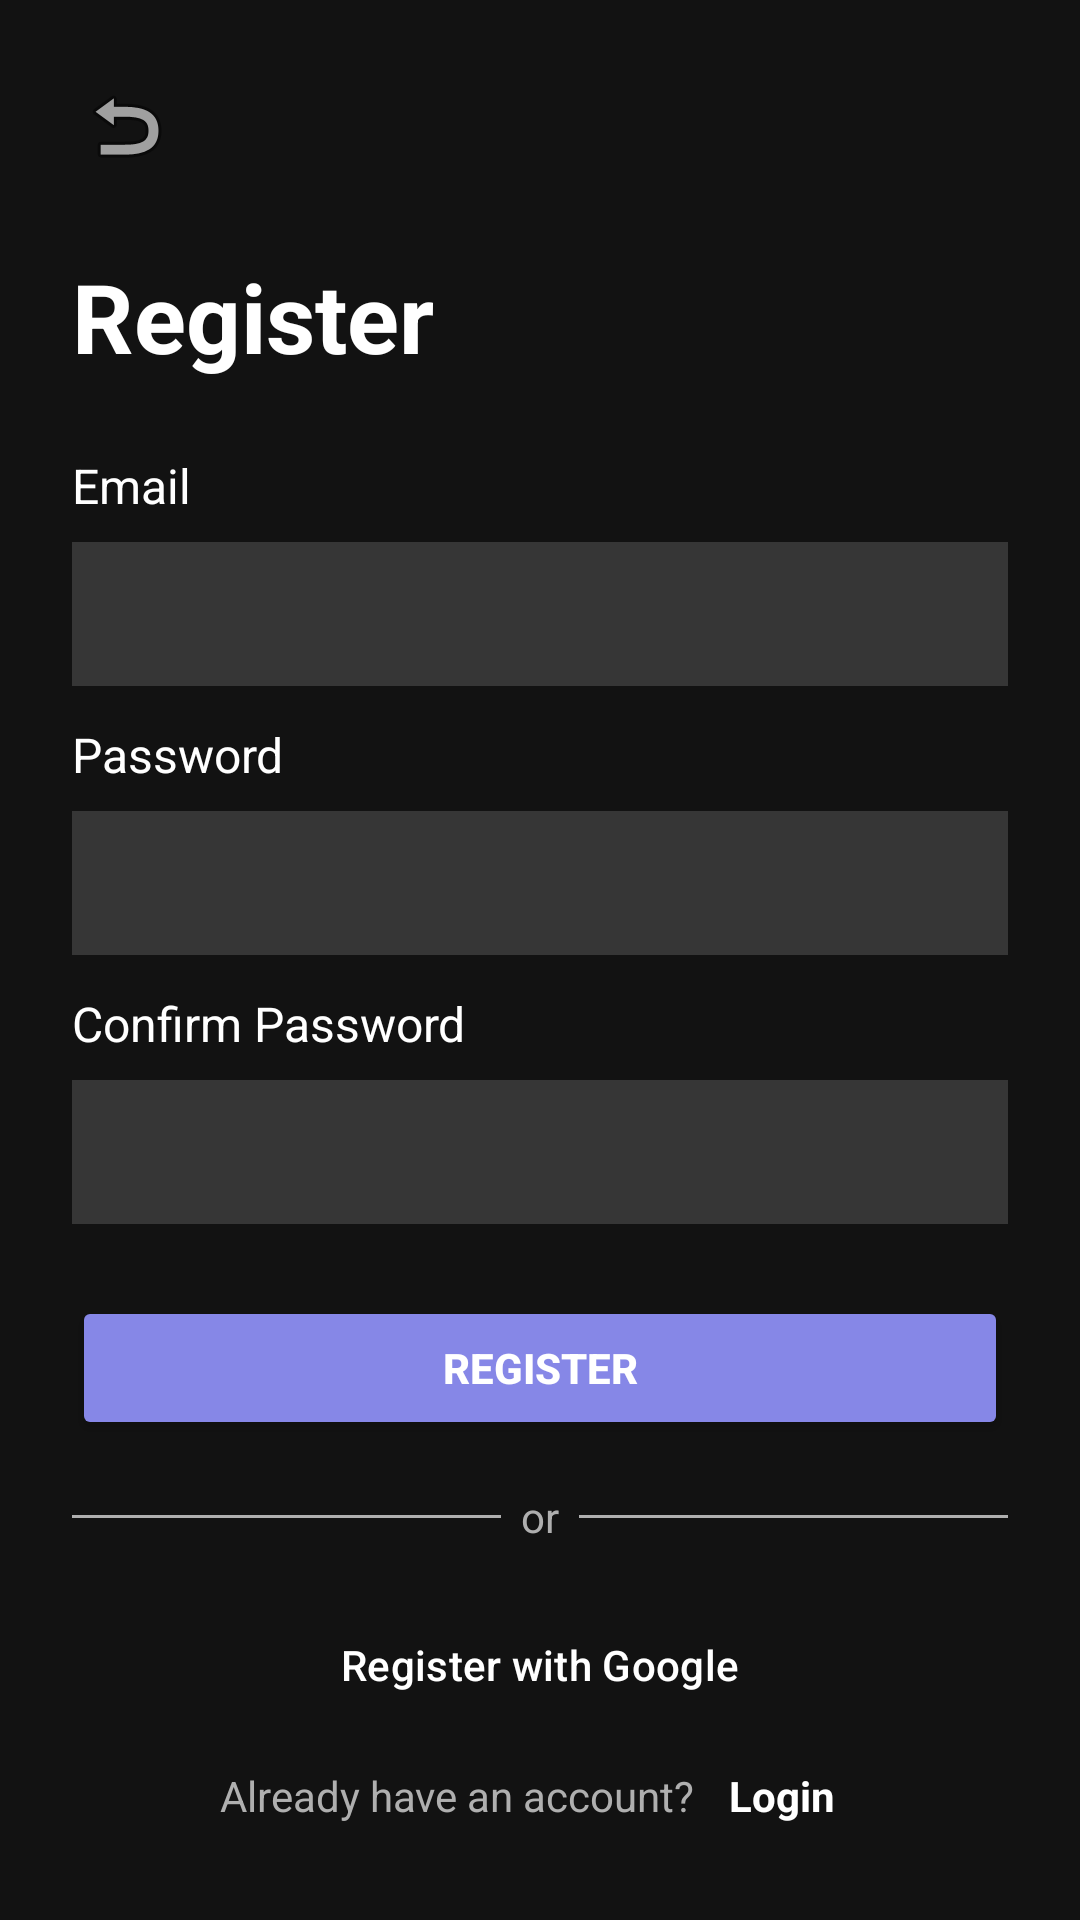

Icons on this 1080*1920 Android screen, each with its box as (x1, y1, x2, y2):
Back: (96, 98, 159, 155)
